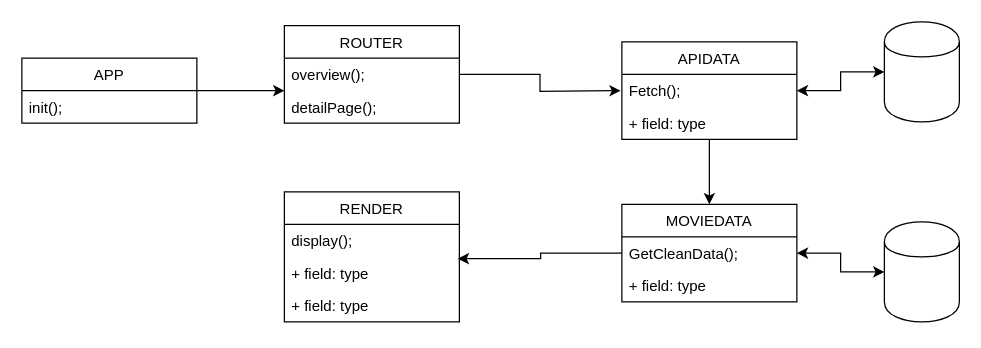
The diagram is 981 pixels wide and 348 high, and some of its shapes have lost their labels. Here are the shapes that lost their labels. From the top down, the centre of each, then its label:
the point at 921,71: Ghibli API
the point at 921,271: Local storage
